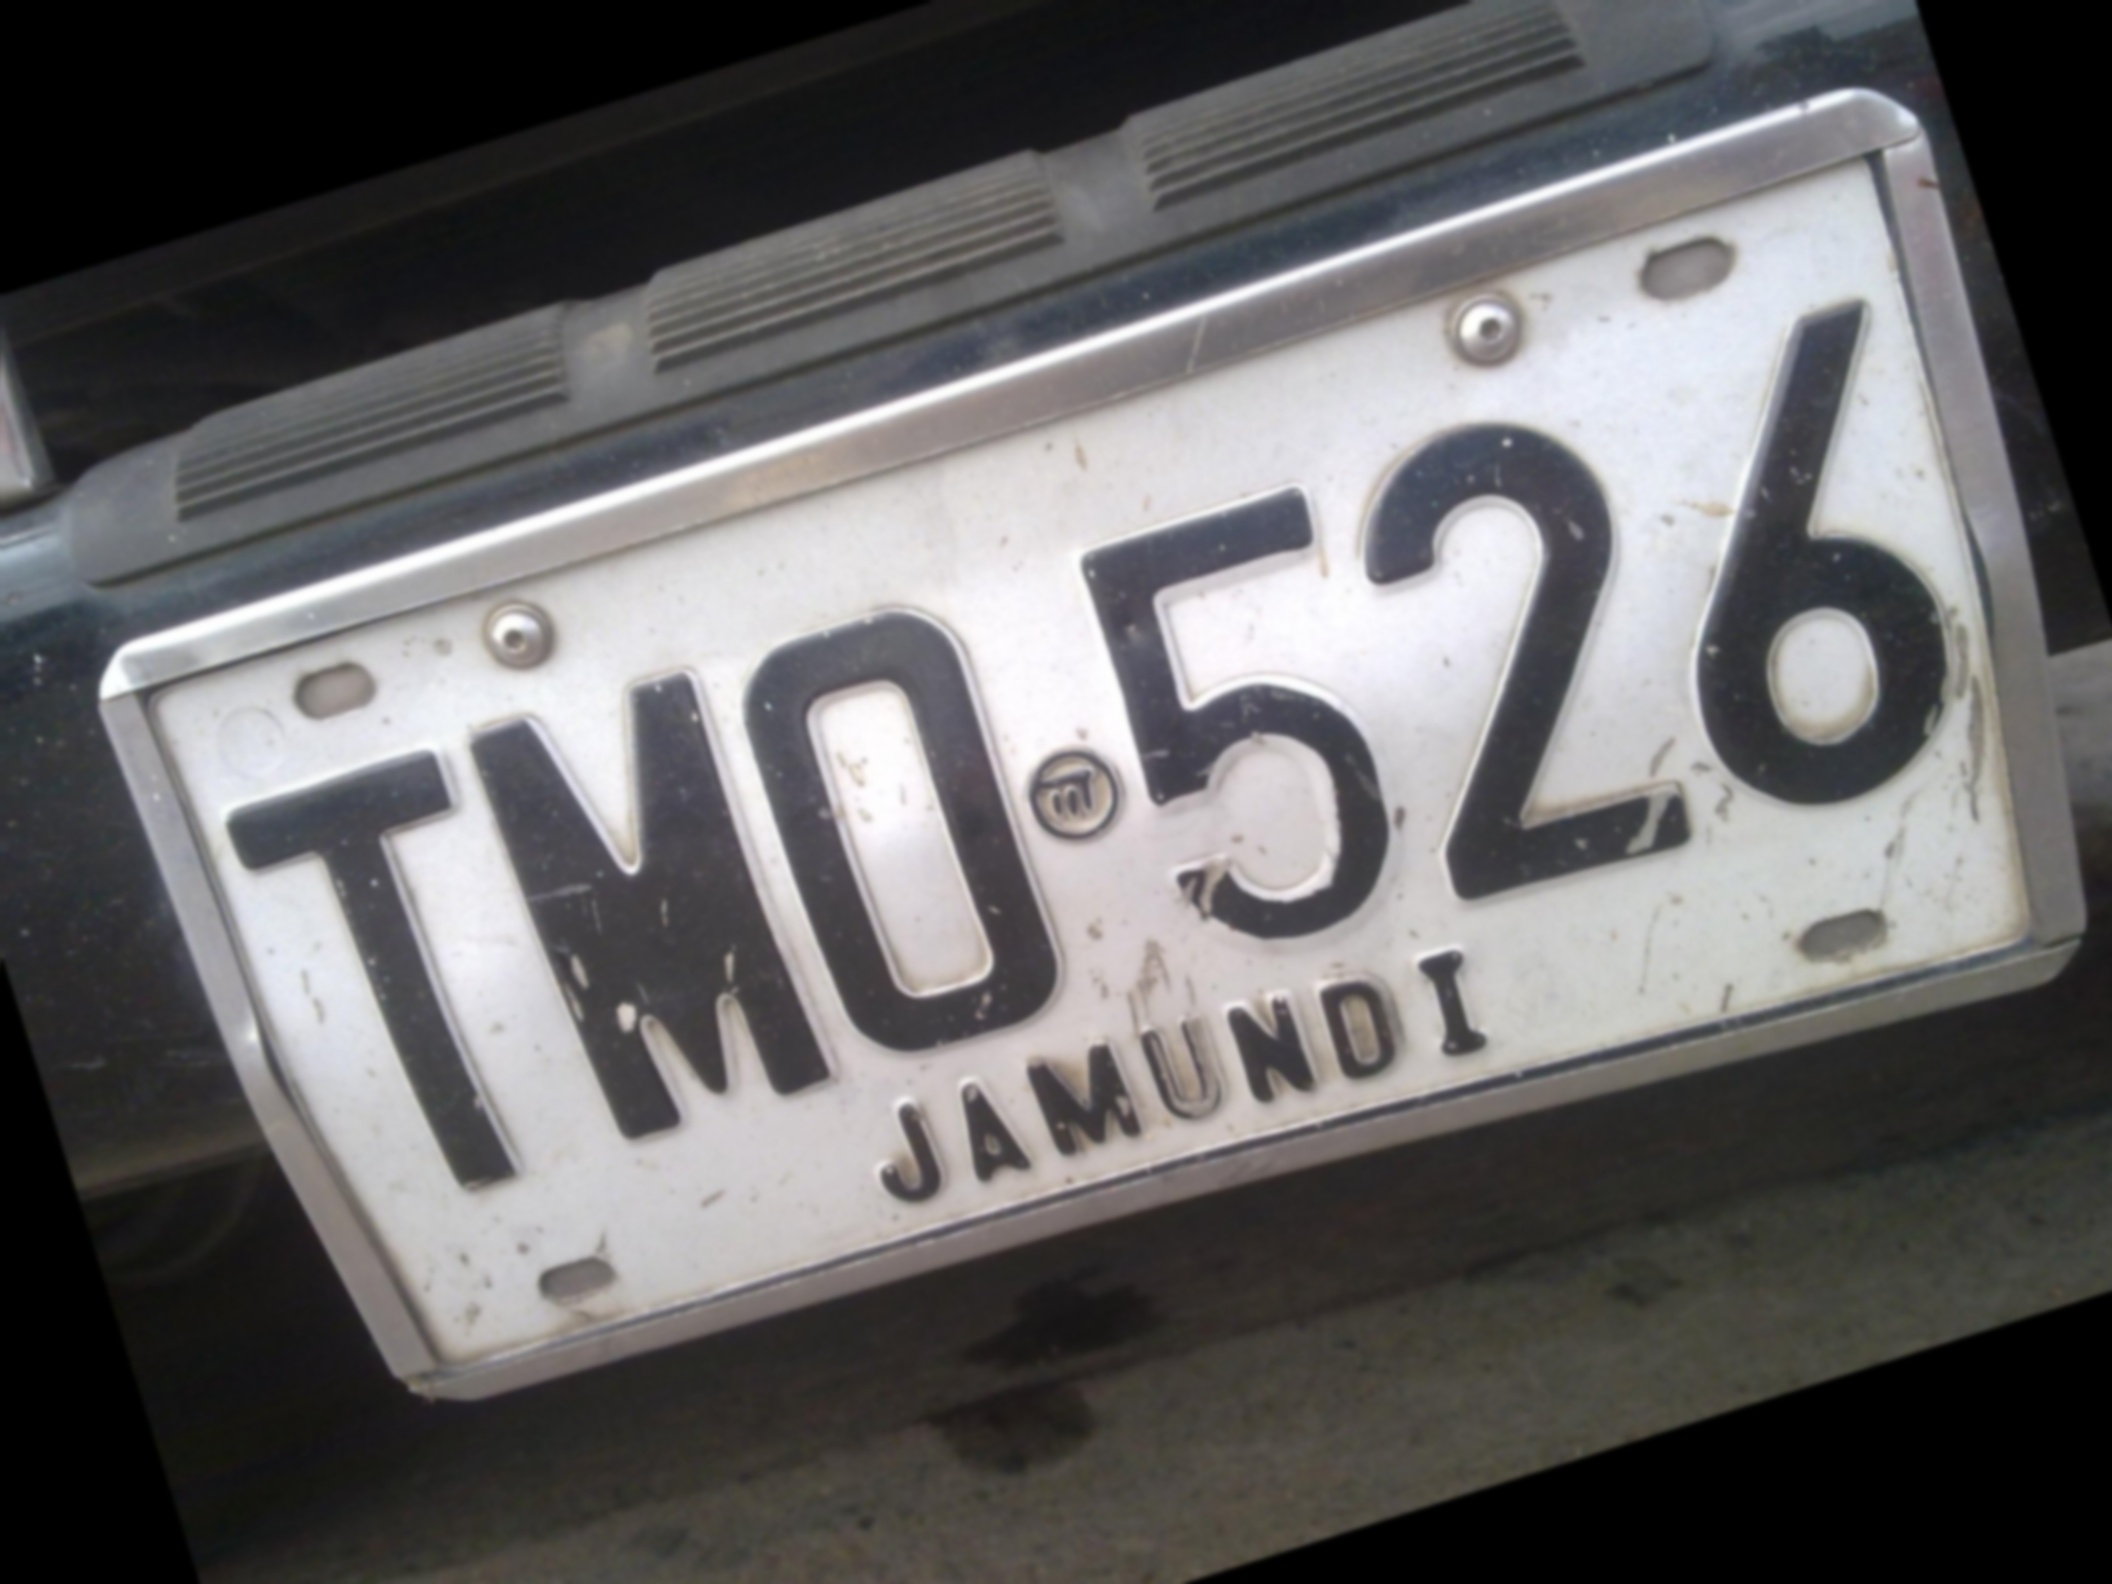placas: (69, 57, 2112, 1528)
